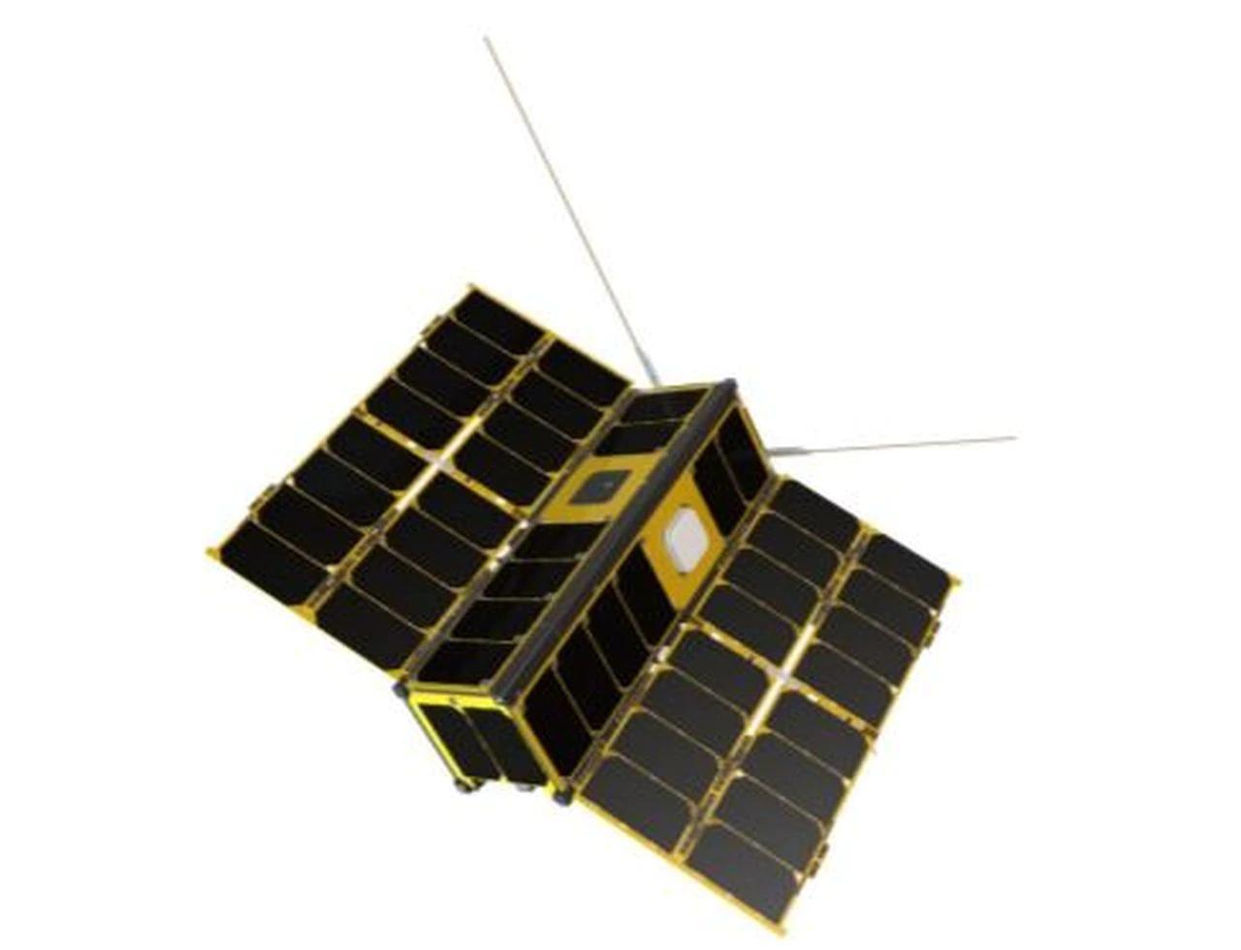antenna: (478, 31, 660, 387), (761, 432, 1024, 461)
body: (387, 375, 783, 805)
solar: (577, 475, 956, 937), (213, 285, 634, 673), (519, 538, 682, 780), (413, 516, 616, 687), (415, 700, 555, 792), (689, 403, 773, 539), (591, 382, 712, 459)
